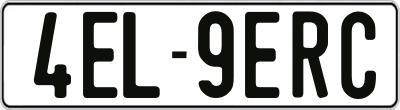4: (32, 12, 75, 98)
9: (197, 8, 238, 95)
C: (339, 9, 378, 98)
E: (82, 9, 117, 97), (242, 10, 276, 100)
L: (122, 9, 161, 98)
R: (293, 10, 331, 101)
